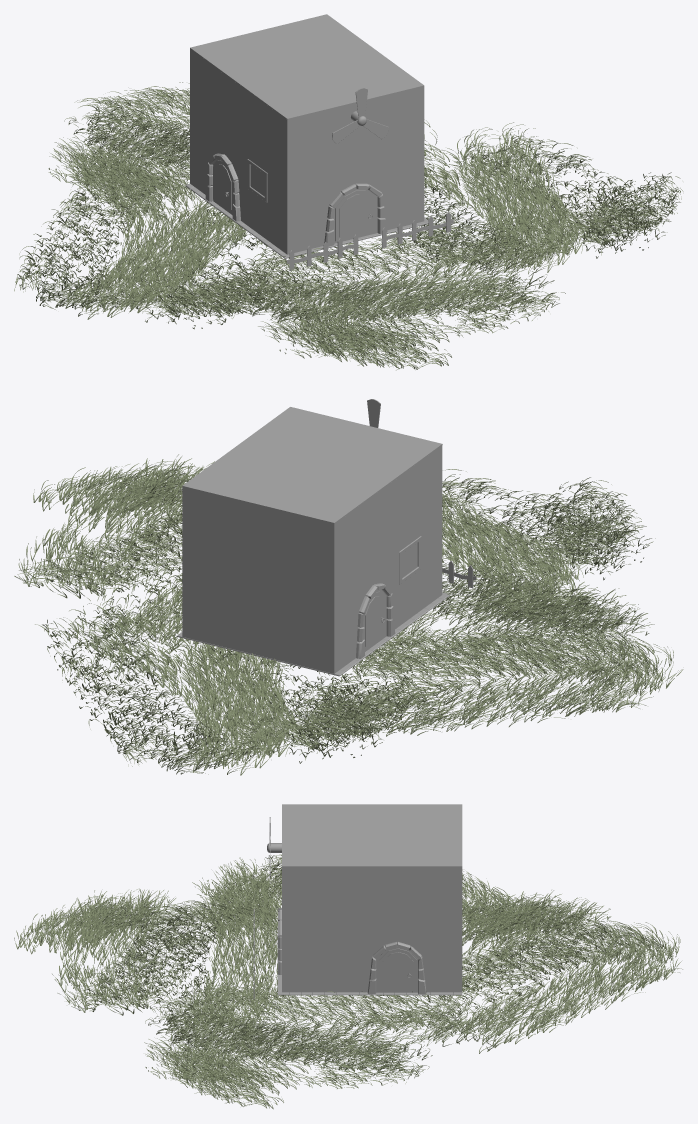
File: Project house 2nd.fbx
3 views of the same model, one above another, from view 1: azimuth 30°, elevation 25°; view 2: azimuth 150°, elevation 25°; view 3: azimuth 270°, elevation 25° (orthographic). The views are drawn at different scales.
Parts seen in each view (by area): view 1: Project_house_2nd:grassWindWide1Main, Project_house_2nd:grassWindWide1Main2, Project_house_2nd:grassWindWide1Main1, Project_house_2nd:polySurface201, Project_house_2nd:top, Project_house_2nd:grassWindWide1Main3, Project_house_2nd:polySurface161, Project_house_2nd:polySurface78, Project_house_2nd:polySurface200; view 2: Project_house_2nd:grassWindWide1Main2, Project_house_2nd:grassWindWide1Main3, Project_house_2nd:polySurface202, Project_house_2nd:grassWindWide1Main, Project_house_2nd:grassWindWide1Main1, Project_house_2nd:top, Project_house_2nd:polySurface161, Project_house_2nd:polySurface200; view 3: Project_house_2nd:grassWindWide1Main1, Project_house_2nd:grassWindWide1Main, Project_house_2nd:grassWindWide1Main3, Project_house_2nd:polySurface162, Project_house_2nd:top, Project_house_2nd:grassWindWide1Main2, Project_house_2nd:polySurface199.
Part boxes in pixels (left/top/right/bottom): Project_house_2nd:grassWindWide1Main: left=222, top=212, right=567, bottom=370; Project_house_2nd:grassWindWide1Main2: left=14, top=156, right=323, bottom=329; Project_house_2nd:grassWindWide1Main1: left=396, top=122, right=683, bottom=275; Project_house_2nd:polySurface201: left=287, top=87, right=424, bottom=254; Project_house_2nd:top: left=190, top=14, right=424, bottom=119; Project_house_2nd:grassWindWide1Main3: left=48, top=82, right=437, bottom=220; Project_house_2nd:polySurface161: left=190, top=49, right=287, bottom=254; Project_house_2nd:polySurface78: left=333, top=189, right=378, bottom=243; Project_house_2nd:polySurface200: left=213, top=159, right=234, bottom=215; Project_house_2nd:grassWindWide1Main2: left=286, top=571, right=683, bottom=738; Project_house_2nd:grassWindWide1Main3: left=35, top=603, right=423, bottom=775; Project_house_2nd:polySurface202: left=182, top=487, right=334, bottom=673; Project_house_2nd:grassWindWide1Main: left=433, top=469, right=655, bottom=623; Project_house_2nd:grassWindWide1Main1: left=14, top=454, right=214, bottom=655; Project_house_2nd:top: left=182, top=407, right=442, bottom=524; Project_house_2nd:polySurface161: left=334, top=445, right=442, bottom=673; Project_house_2nd:polySurface200: left=363, top=589, right=386, bottom=651; Project_house_2nd:grassWindWide1Main1: left=144, top=979, right=491, bottom=1109; Project_house_2nd:grassWindWide1Main: left=14, top=888, right=277, bottom=1043; Project_house_2nd:grassWindWide1Main3: left=407, top=890, right=682, bottom=1053; Project_house_2nd:polySurface162: left=282, top=867, right=461, bottom=992; Project_house_2nd:top: left=282, top=804, right=462, bottom=867; Project_house_2nd:grassWindWide1Main2: left=192, top=854, right=557, bottom=947; Project_house_2nd:polySurface199: left=376, top=946, right=418, bottom=992.
Size of the model in its own units: 3054 by 823 by 3158.
